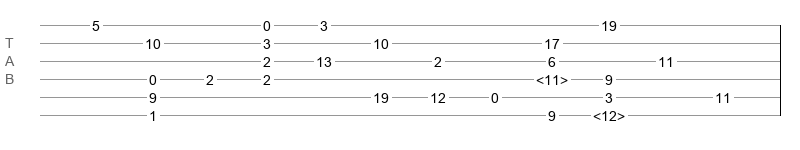0: (149, 72, 157, 82), (263, 18, 271, 28), (491, 90, 499, 100)
1: (149, 108, 157, 118)
10: (145, 36, 161, 46), (373, 36, 389, 46)
11: (658, 54, 674, 64), (715, 90, 731, 100)
12: (430, 90, 446, 100)
13: (316, 54, 332, 64)
17: (544, 36, 560, 46)
19: (373, 90, 389, 100), (601, 18, 617, 28)
2: (206, 72, 214, 82), (263, 72, 271, 82), (263, 54, 271, 64), (434, 54, 442, 64)
3: (263, 36, 271, 46), (320, 18, 328, 28), (605, 90, 613, 100)
5: (92, 18, 100, 28)
6: (548, 54, 556, 64)
9: (149, 90, 157, 100), (548, 108, 556, 118), (605, 72, 613, 82)
harmonic: (536, 72, 568, 82), (593, 108, 625, 118)
